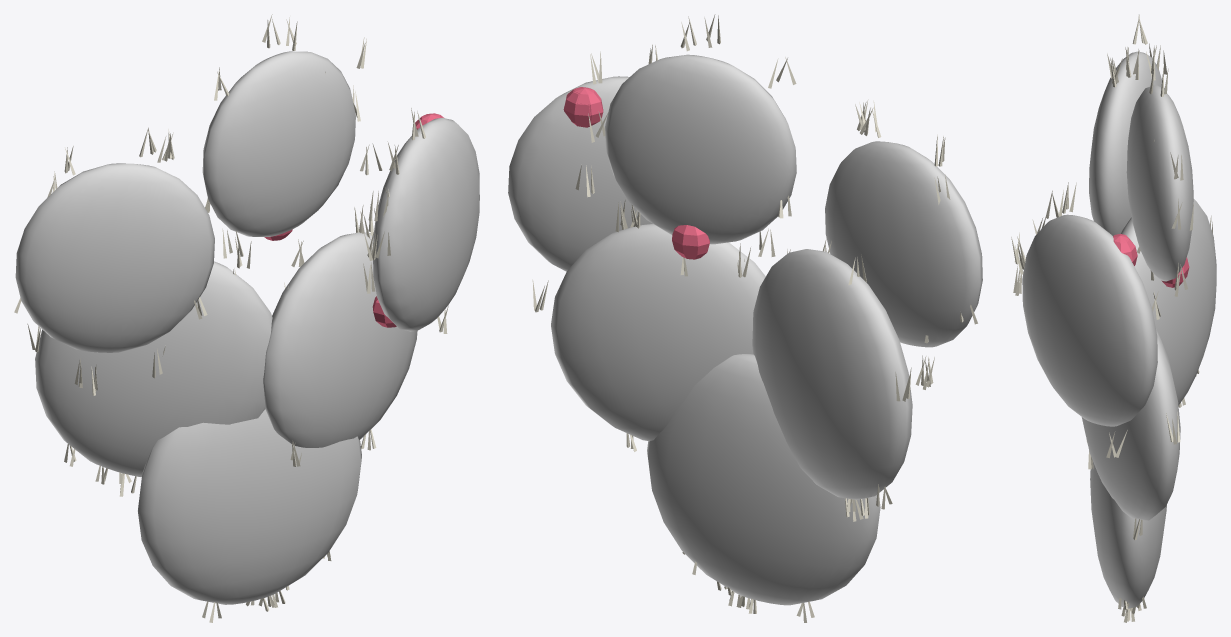
3 views of the same model, side by side, from view 1: azimuth 30°, elevation 25°; view 2: azimuth 150°, elevation 25°; view 3: azimuth 270°, elevation 25° (orthographic). The views are drawn at different scales.
Parts seen in each view (by area): view 1: PricklyPearCactus; view 2: PricklyPearCactus; view 3: PricklyPearCactus.
Boxes of the visible parts, <box> form: PricklyPearCactus: <box>14,14,479,622</box>; PricklyPearCactus: <box>508,14,982,622</box>; PricklyPearCactus: <box>1011,14,1216,622</box>.
Size of what is drawn, in the model's own units: 2.03 by 2.46 by 0.7908.
